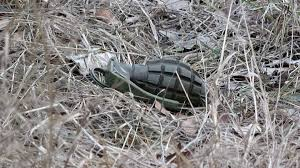e1: (91, 56, 211, 111)
